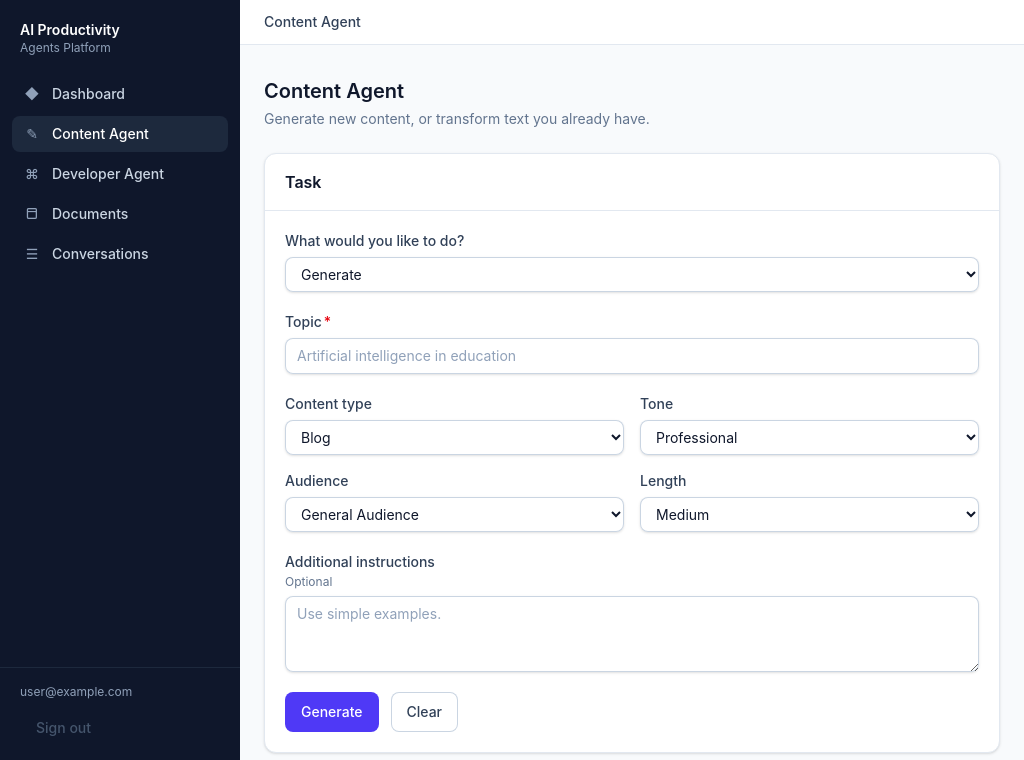
Scenario: Content Agent › swaps the inputs when the task changes
Select "Summarize" in the dropdown labelled "What would you like to do?". click: (632, 274)
box: [285, 257, 979, 292]
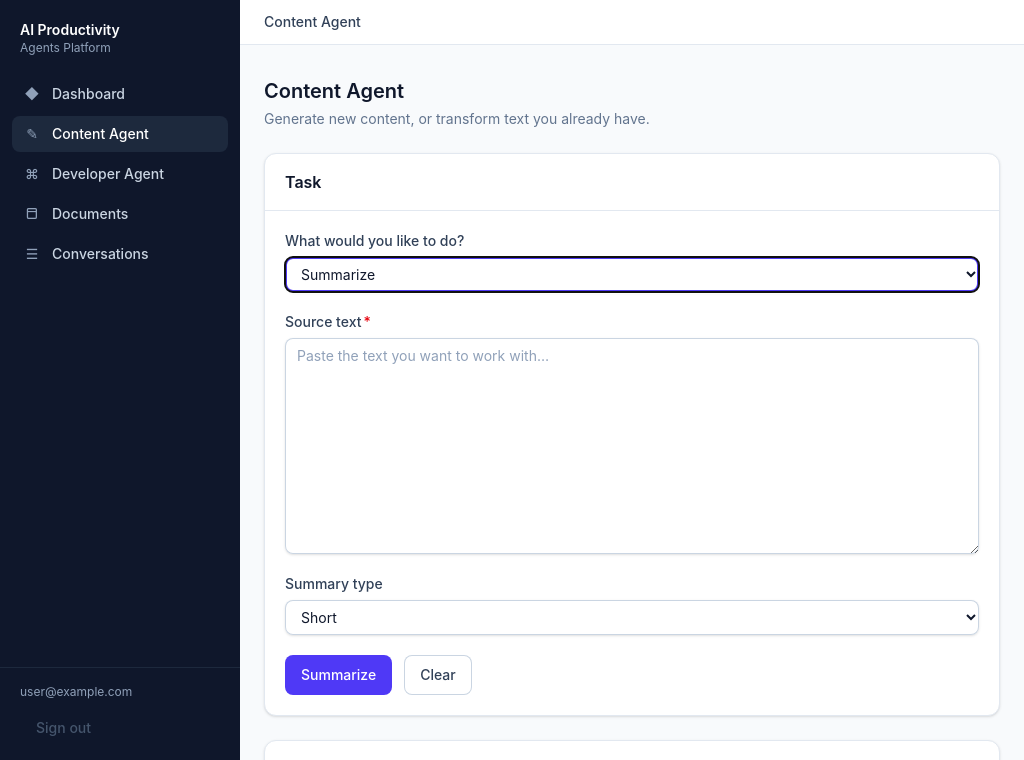
Check: the text box labelled "Source text*" is shown, box [285, 338, 979, 554]
Check: the dropdown labelled "Summary type" is shown, box [285, 600, 979, 635]
Check: the label labelled "Topic" is gone
